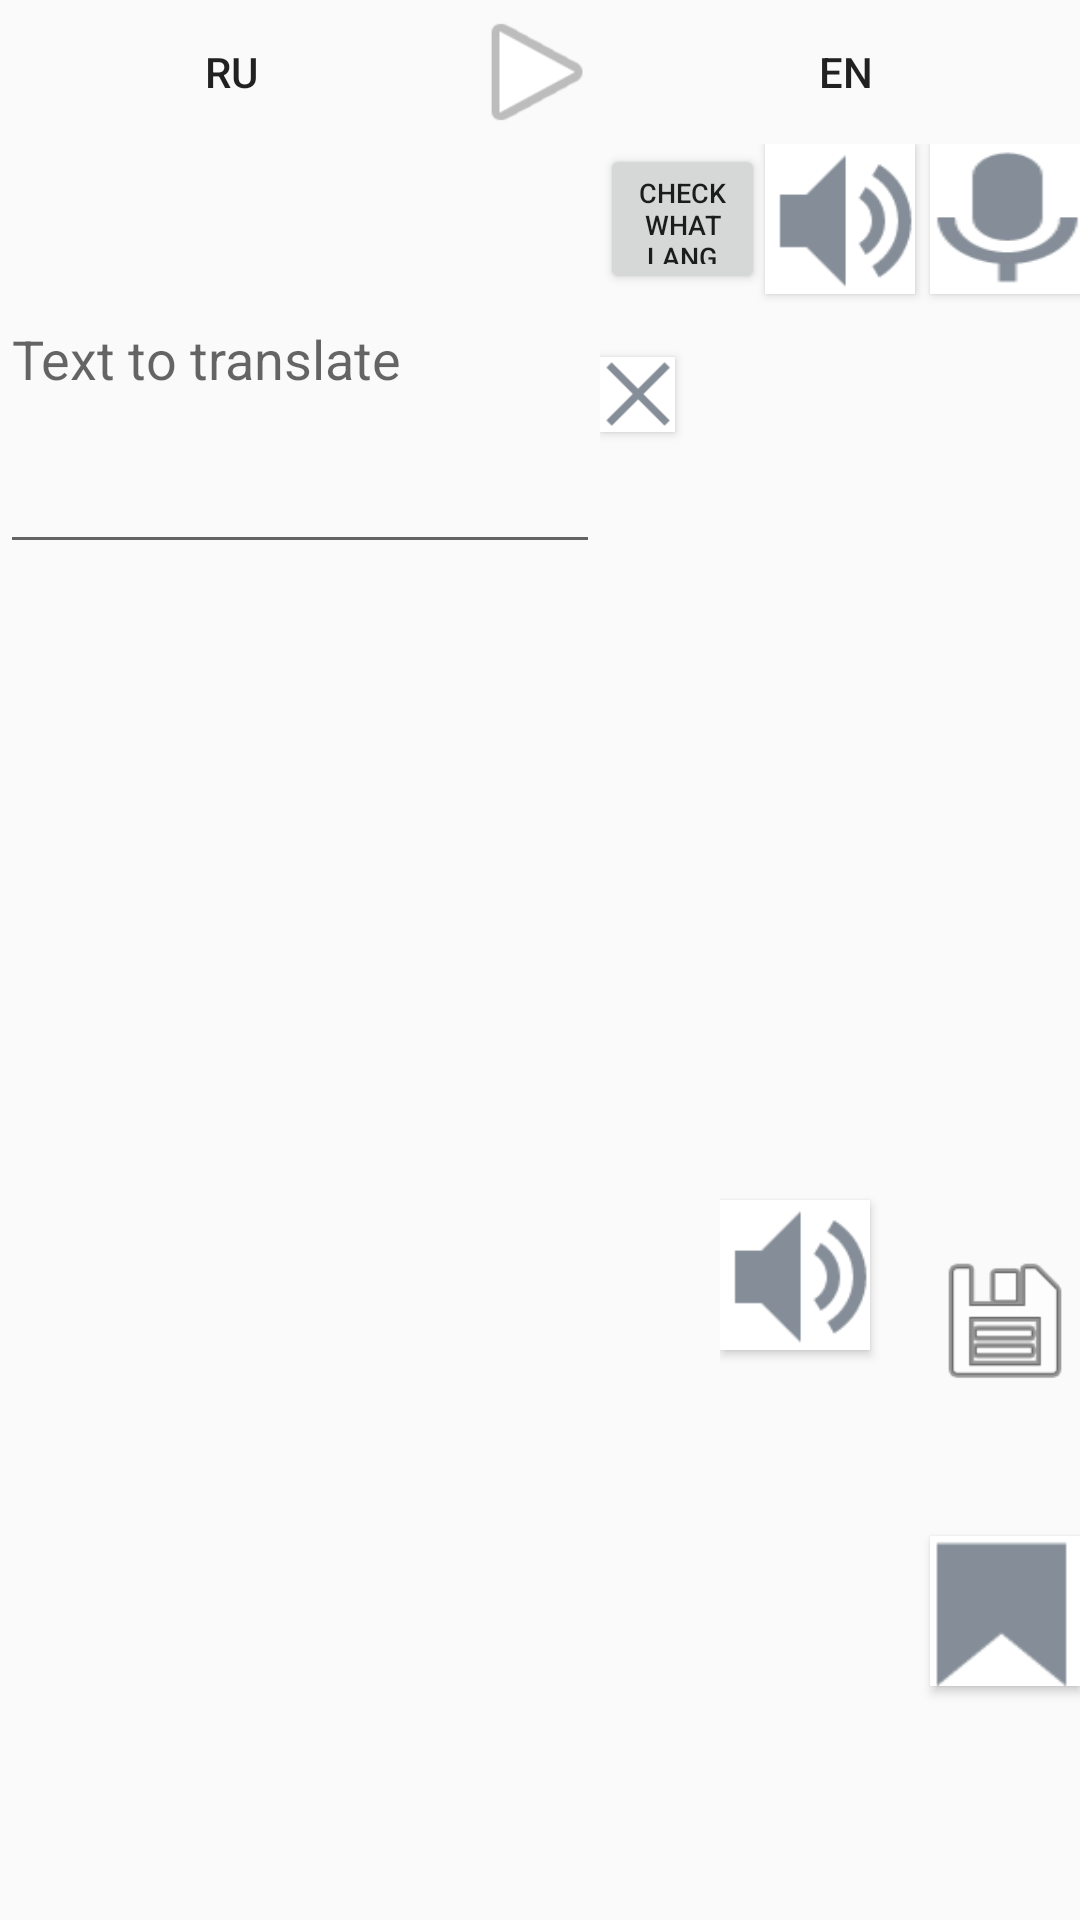

Icons on this 1080 × 1920 Android screen, each with its box as BBox(x1, y1, x2, y2):
delbutton: BBox(606, 362, 670, 426)
favbutton: BBox(936, 1542, 1067, 1686)
micbutton: BBox(937, 152, 1078, 283)
play: BBox(492, 24, 582, 120)
save: BBox(948, 1263, 1062, 1378)
speakerbutton: BBox(779, 155, 912, 286), BBox(734, 1211, 867, 1342)
